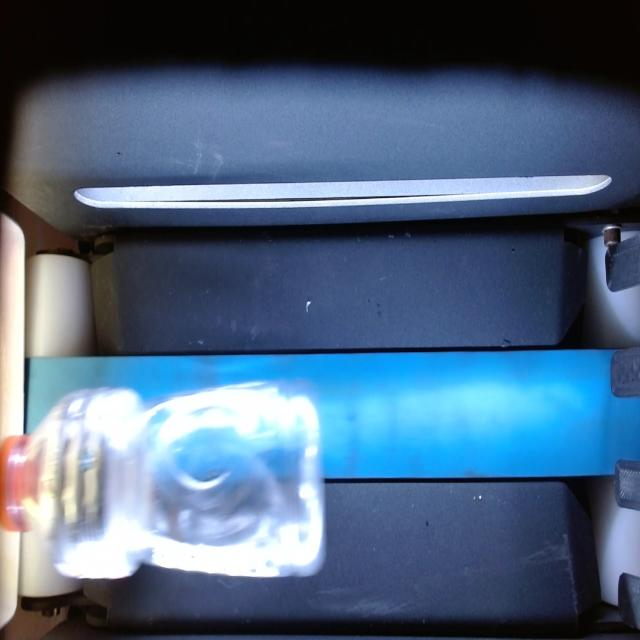bottom: (145, 382, 324, 577)
label: (52, 389, 120, 578)
neck: (21, 402, 61, 540)
